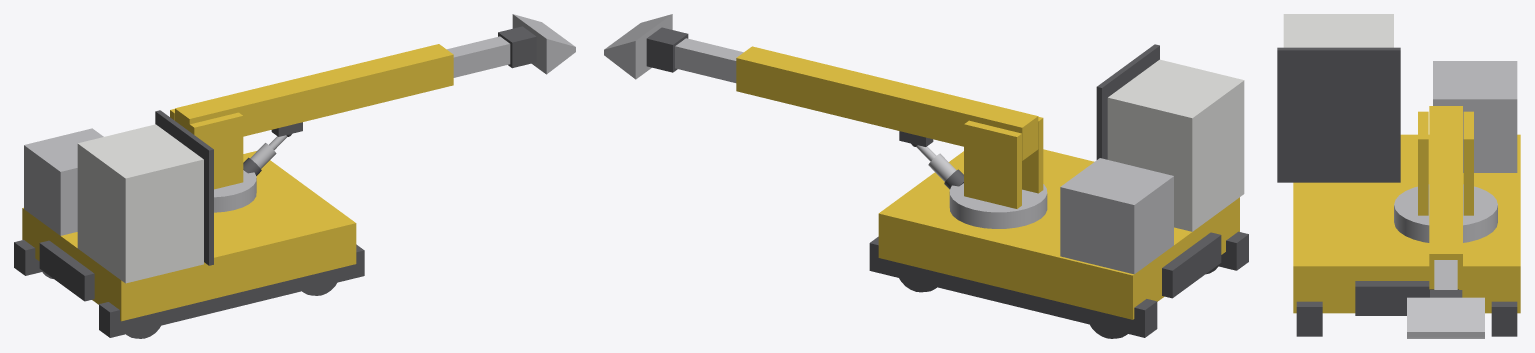
Rendered from SM_ConverterMouthCleaner.fbx.
3 renders of one model, left to right at view 1: azimuth 30°, elevation 25°; view 2: azimuth 150°, elevation 25°; view 3: azimuth 270°, elevation 25°, orthographic. The views are drawn at different scales.
Visible parts, largest first — view 1: CMC_Carriage, CMC_Boom, CMC_Turret, CMC_Blade, CMC_Ram, CMC_LuffCyl_Barrel; view 2: CMC_Carriage, CMC_Boom, CMC_Turret, CMC_Blade, CMC_Ram, CMC_LuffCyl_Barrel; view 3: CMC_Carriage, CMC_Boom, CMC_Turret, CMC_Blade, CMC_Ram.
Boxes of the visible parts, x1=… form: CMC_Carriage: x1=14, y1=110, x2=364, y2=337; CMC_Boom: x1=175, y1=44, x2=453, y2=136; CMC_Turret: x1=170, y1=109, x2=256, y2=212; CMC_Blade: x1=498, y1=14, x2=575, y2=74; CMC_Ram: x1=447, y1=36, x2=510, y2=77; CMC_LuffCyl_Barrel: x1=243, y1=143, x2=276, y2=175; CMC_Carriage: x1=869, y1=44, x2=1248, y2=337; CMC_Boom: x1=736, y1=46, x2=1038, y2=160; CMC_Turret: x1=949, y1=116, x2=1047, y2=228; CMC_Blade: x1=604, y1=14, x2=688, y2=79; CMC_Ram: x1=675, y1=38, x2=743, y2=82; CMC_LuffCyl_Barrel: x1=928, y1=153, x2=963, y2=189; CMC_Carriage: x1=1277, y1=14, x2=1520, y2=336; CMC_Boom: x1=1429, y1=106, x2=1462, y2=289; CMC_Turret: x1=1394, y1=111, x2=1497, y2=242; CMC_Blade: x1=1407, y1=290, x2=1484, y2=338; CMC_Ram: x1=1434, y1=260, x2=1457, y2=289.
Bounding box in the file's own units: 1050 × 364 × 375.
